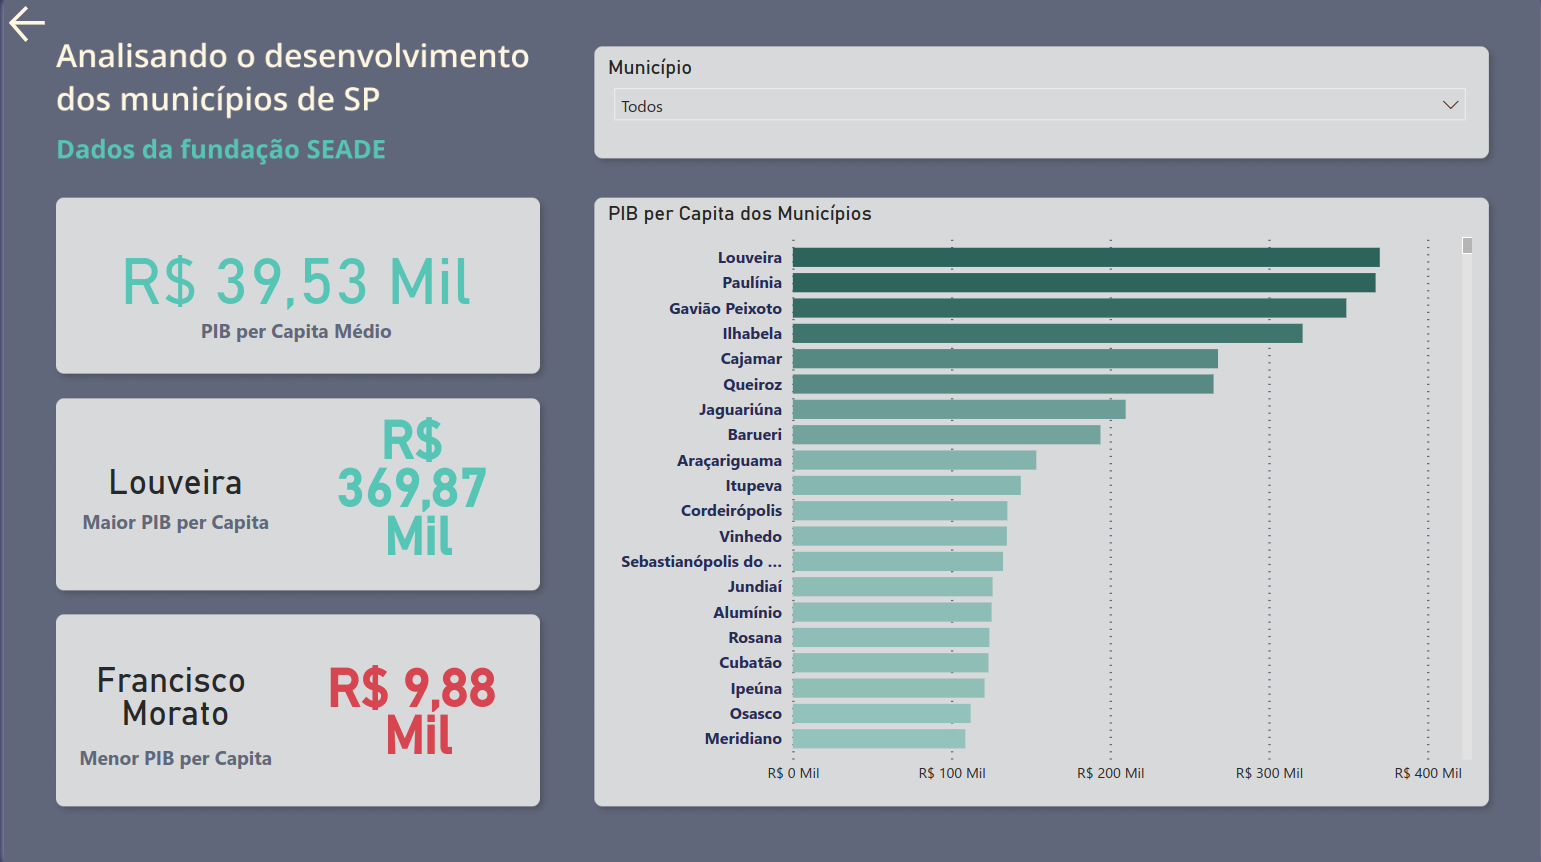

The page's visual inventory and layout, read from the dashboard file:
{"tool":"powerbi","page":{"name":"PIB_Per_Capita","canvas":[1280,720],"ordinal":3},"visuals":[{"type":"card","fields":{"Values":["Avg(pib_per_capita.PIB per capita)"]},"box":[42.8,170.1,402.4,135.1],"z":0},{"type":"clusteredBarChart","title":"PIB per Capita dos Municípios","fields":{"Category":["pib_per_capita.Município"],"Y":["Avg(pib_per_capita.PIB per capita)"]},"box":[498.6,170.1,729.9,491.8],"z":1000},{"type":"card","fields":{"Values":["MedidasPibPerCapita.MaiorPibPerCapita"]},"box":[243.9,330.4,201.2,159.4],"z":2000},{"type":"card","fields":{"Values":["MedidasPibPerCapita.MenorPibPerCapita"]},"box":[243.9,513.2,201.2,159.4],"z":3000},{"type":"card","fields":{"Values":["MedidasPibPerCapita.MunicipioMaiorPibPerCapita"]},"box":[42.8,330.4,201.2,159.4],"z":4000},{"type":"card","fields":{"Values":["MedidasPibPerCapita.MunicipioMenorPibPerCapita"]},"box":[42.8,513.2,201.2,156.5],"z":5000},{"type":"slicer","title":"Município","fields":{"Values":["pib_per_capita.Município"]},"box":[498.6,48.6,729.9,75.8],"z":6000},{"type":"actionButton","box":[0,0,42.8,39.8],"z":7000}]}

Visuals, with their boxes in screenshot pixels (x1, y1, x2, y2), scaled from the page's 1280x720 canvas onto the 1541x862 screenshot:
card - Avg(pib_per_capita.PIB per capita): bbox=(52, 204, 536, 365)
"PIB per Capita dos Municípios" clusteredBarChart: bbox=(600, 204, 1479, 792)
card - MedidasPibPerCapita.MaiorPibPerCapita: bbox=(294, 396, 536, 586)
card - MedidasPibPerCapita.MenorPibPerCapita: bbox=(294, 614, 536, 805)
card - MedidasPibPerCapita.MunicipioMaiorPibPerCapita: bbox=(52, 396, 294, 586)
card - MedidasPibPerCapita.MunicipioMenorPibPerCapita: bbox=(52, 614, 294, 802)
"Município" slicer: bbox=(600, 58, 1479, 149)
actionButton: bbox=(0, 0, 52, 48)
